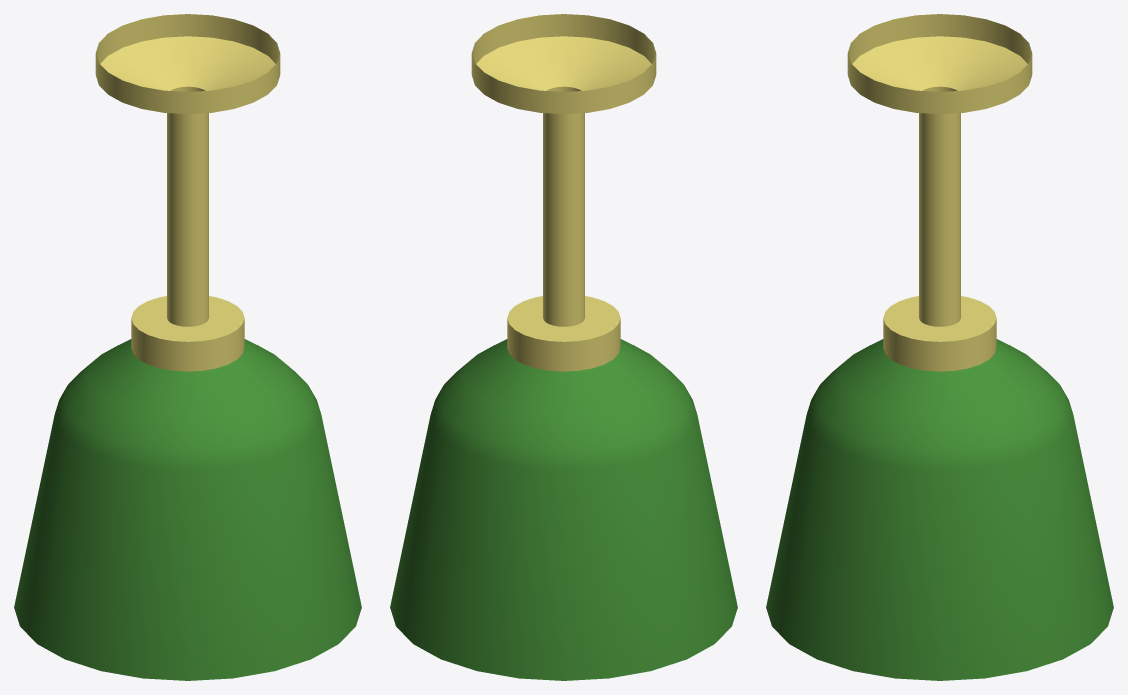
Rendered from ceilingLight.fbx.
3 renders of one model, left to right at view 1: azimuth 30°, elevation 25°; view 2: azimuth 150°, elevation 25°; view 3: azimuth 270°, elevation 25°, orthographic.
Parts seen in each view (by area): view 1: Ceiling Light; view 2: Ceiling Light; view 3: Ceiling Light.
Part boxes in pixels (left/top/right/bottom): Ceiling Light: left=14, top=14, right=361, bottom=680; Ceiling Light: left=390, top=14, right=737, bottom=680; Ceiling Light: left=766, top=14, right=1113, bottom=680.
Bounding box in the file's own units: 812 × 812 × 1428.
